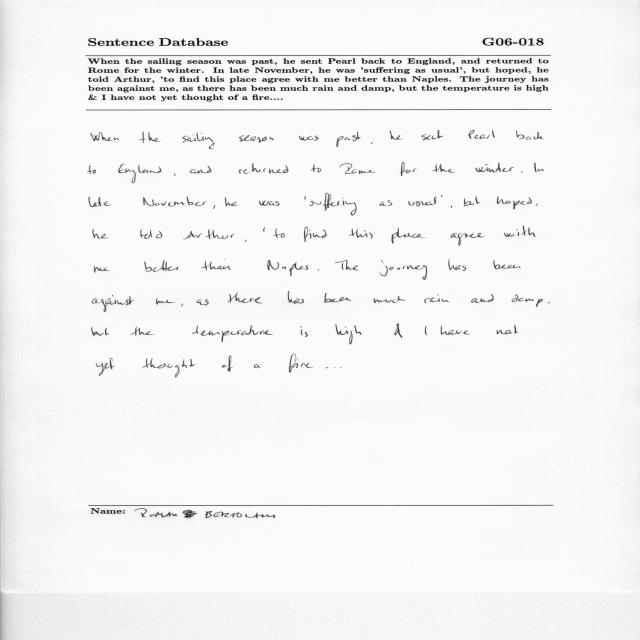word: (192, 325, 273, 342), (310, 193, 357, 216), (143, 358, 196, 377), (380, 260, 427, 280), (118, 164, 162, 183), (92, 295, 134, 312), (267, 260, 309, 276), (143, 197, 207, 207), (183, 229, 235, 240), (335, 324, 362, 344), (239, 163, 288, 174), (182, 133, 215, 149), (392, 228, 425, 244), (497, 196, 532, 209), (451, 233, 485, 246), (144, 260, 179, 272), (336, 132, 361, 148), (340, 163, 376, 174), (475, 163, 514, 173), (228, 293, 262, 304), (512, 295, 543, 307), (504, 226, 536, 237), (96, 358, 115, 376), (304, 227, 326, 242), (201, 259, 231, 270), (516, 130, 544, 140), (409, 197, 437, 207), (324, 293, 351, 303), (349, 228, 373, 239), (441, 326, 470, 335), (91, 132, 119, 141), (467, 130, 495, 139), (335, 260, 360, 270), (239, 135, 274, 142), (494, 260, 521, 269), (140, 131, 160, 143), (400, 162, 417, 176), (140, 229, 163, 239), (424, 294, 449, 303), (374, 296, 406, 303), (89, 197, 111, 207), (448, 259, 466, 271), (130, 327, 154, 336), (422, 130, 443, 140), (288, 291, 304, 304), (432, 164, 455, 173), (471, 294, 494, 303), (497, 325, 518, 334), (222, 355, 233, 372), (289, 354, 298, 373), (190, 166, 211, 174), (92, 327, 110, 336), (464, 197, 480, 207), (93, 229, 108, 239), (301, 363, 328, 368), (259, 200, 280, 206), (394, 324, 403, 338), (273, 229, 285, 239), (156, 298, 175, 304), (94, 266, 110, 273), (534, 163, 545, 173), (390, 131, 402, 140), (225, 197, 237, 206), (299, 136, 319, 141), (300, 326, 308, 337), (197, 299, 209, 306), (311, 165, 321, 173), (88, 166, 96, 175), (380, 200, 392, 206), (254, 364, 260, 369), (425, 326, 427, 335), (263, 227, 265, 232), (214, 205, 216, 209), (304, 196, 306, 200), (174, 173, 176, 176), (536, 203, 538, 206), (181, 304, 183, 307), (371, 142, 373, 144), (521, 171, 523, 173), (245, 240, 247, 242), (548, 302, 550, 304), (451, 205, 452, 208), (441, 195, 442, 197), (318, 269, 319, 271)
